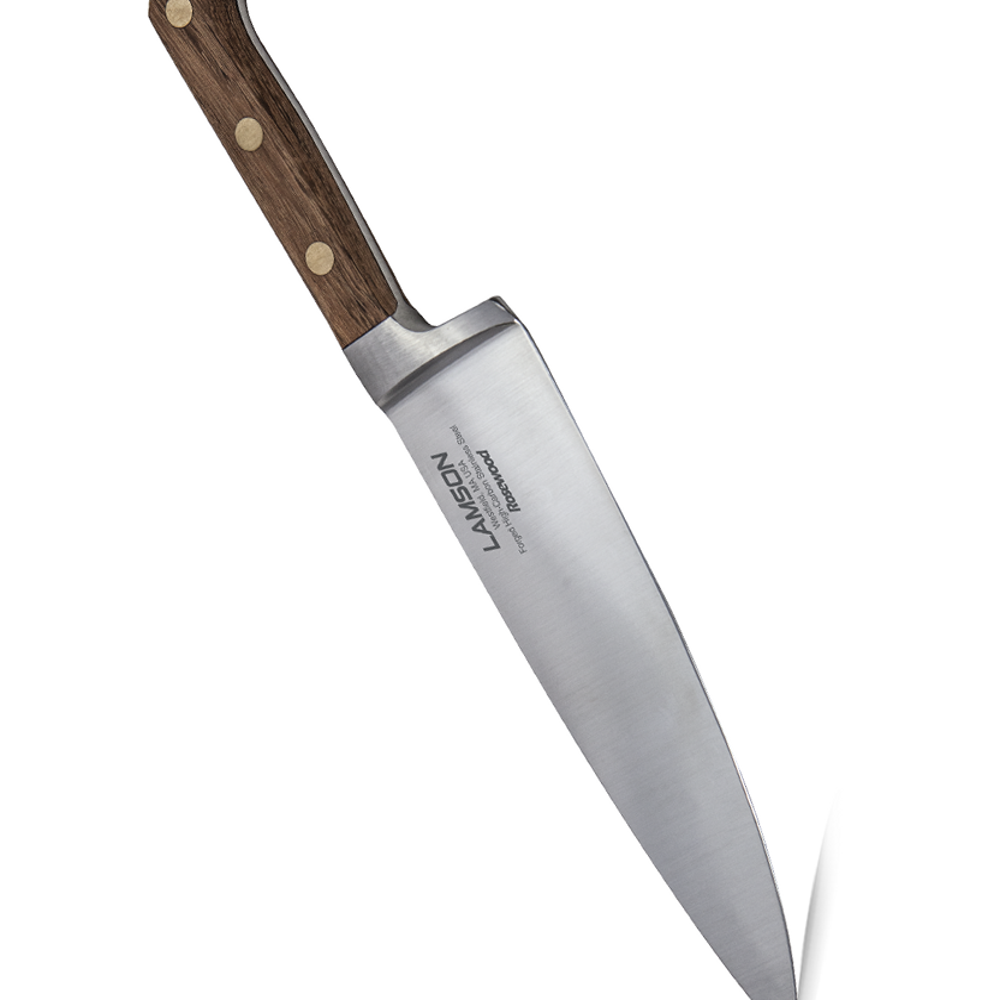knife: (147, 13, 806, 995)
